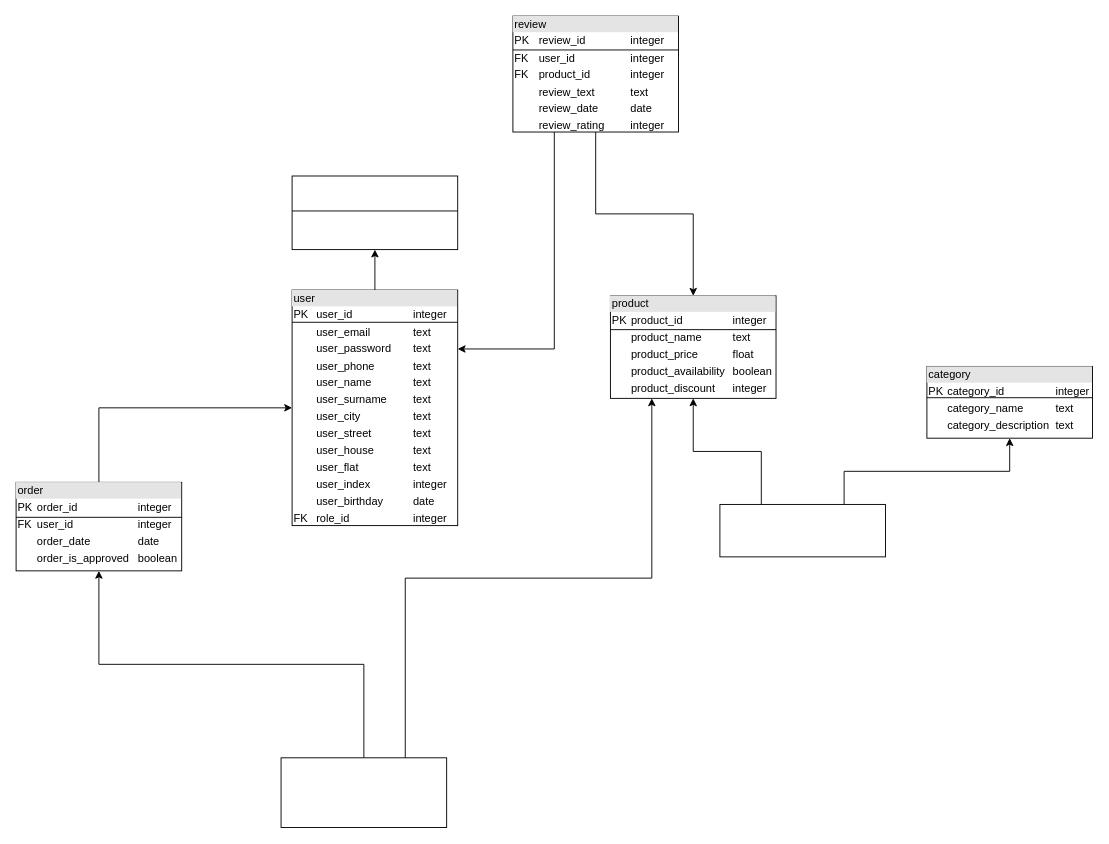
The diagram is 1109 pixels wide and 844 high, and some of its shapes have lost their labels. The box of each missing label's shape, as (x1, y1, x2, y2) in pixels:
categories FK product_id integer FK category_id integer: (719, 504, 886, 557)
orders FK order_id integer FK product_id integer count integer: (280, 757, 447, 828)
role PK role_id integer role_name text role_description text: (291, 175, 458, 250)
